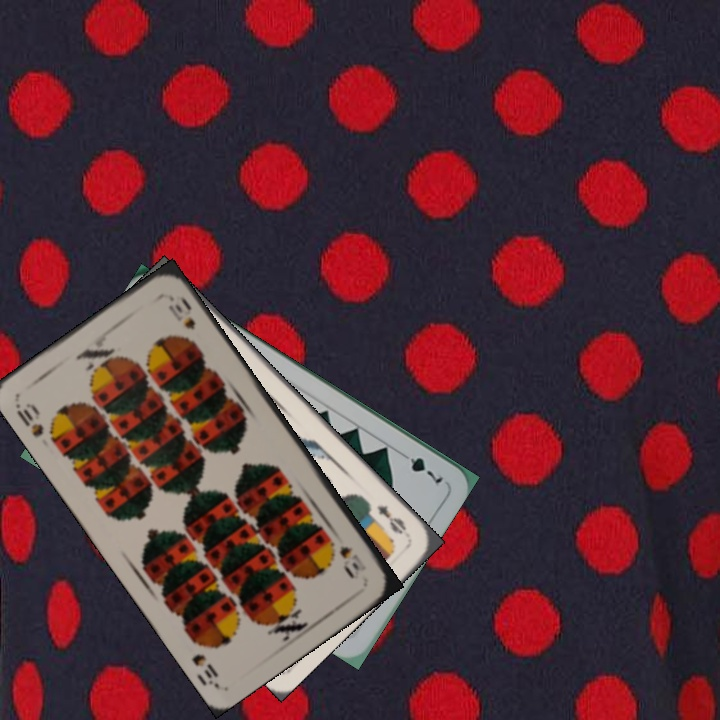EO: (372, 501, 410, 537)
G7: (396, 446, 446, 486)
S10: (11, 399, 47, 440), (335, 541, 369, 574)
